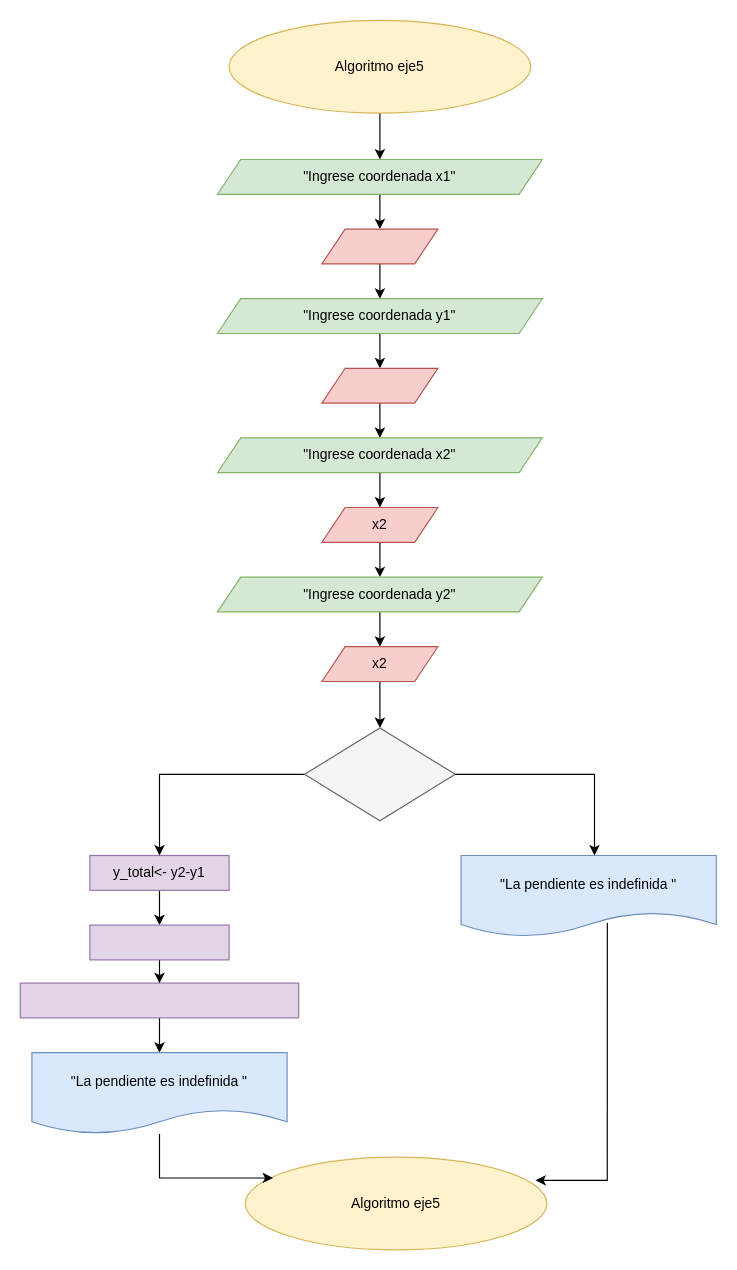
The diagram is 737 pixels wide and 1270 high, and some of its shapes have lost their labels. Each missing label, with the centre of its shape:
pendiente<-y_total/x_total: (159,1000)
x1: (379,246)
x1==x2: (379,774)
x_total<- x2-x1: (159,942)
y1: (379,385)
